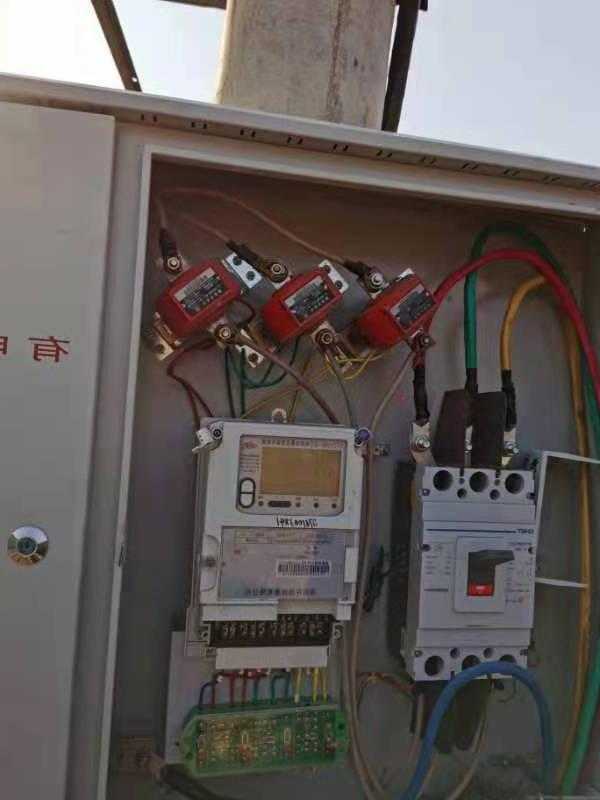digital: (196, 421, 359, 606)
